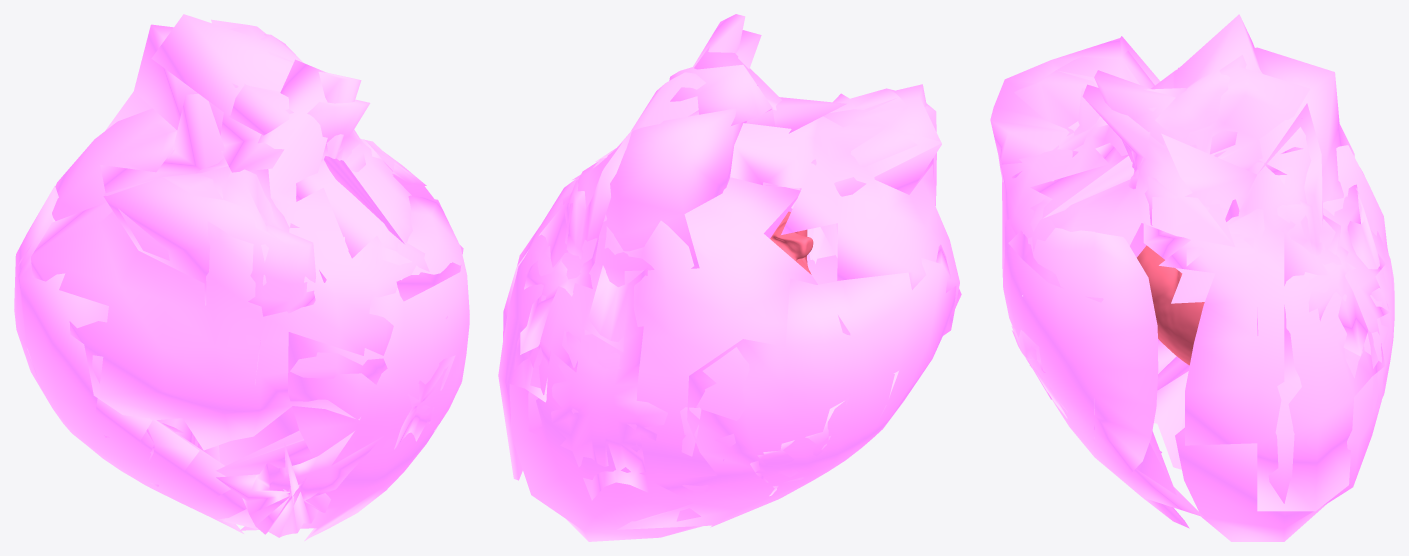
The model's file is heart-organ-responding-1.glb.
The picture shows the model from 3 angles, left to right: view 1: azimuth 30°, elevation 25°; view 2: azimuth 150°, elevation 25°; view 3: azimuth 270°, elevation 25°; orthographic projection. The views are drawn at different scales.
Visible parts, largest first — view 1: Amyloid_1, Amyloid_0, Amyloid_4, Amyloid_3, Amyloid_2, Amyloid_5, Amyloid_6; view 2: Amyloid_2, Amyloid_3, Amyloid_1, Amyloid_6, Amyloid_4, mesh_base_material_0, Amyloid_0; view 3: Amyloid_6, Amyloid_0, Amyloid_4, Amyloid_2, Amyloid_1, mesh_base_material_0, Amyloid_3.
Boxes of the visible parts, x1,y1,x2,y2 form: Amyloid_1: [31, 59, 447, 450]; Amyloid_0: [216, 195, 469, 541]; Amyloid_4: [151, 14, 463, 301]; Amyloid_3: [14, 186, 246, 533]; Amyloid_2: [18, 108, 299, 465]; Amyloid_5: [216, 431, 383, 537]; Amyloid_6: [105, 24, 433, 198]; Amyloid_2: [503, 157, 850, 541]; Amyloid_3: [617, 244, 961, 529]; Amyloid_1: [694, 46, 959, 335]; Amyloid_6: [498, 85, 757, 480]; Amyloid_4: [572, 14, 846, 179]; mesh_base_material_0: [770, 211, 813, 274]; Amyloid_0: [788, 208, 841, 284]; Amyloid_6: [1143, 47, 1390, 511]; Amyloid_0: [1002, 196, 1204, 528]; Amyloid_4: [1008, 14, 1309, 302]; Amyloid_2: [1175, 145, 1394, 541]; Amyloid_1: [990, 36, 1186, 296]; mesh_base_material_0: [1137, 245, 1204, 365]; Amyloid_3: [1154, 339, 1189, 469].
Size of the model in its own units: 4.2 by 5.17 by 4.03.
